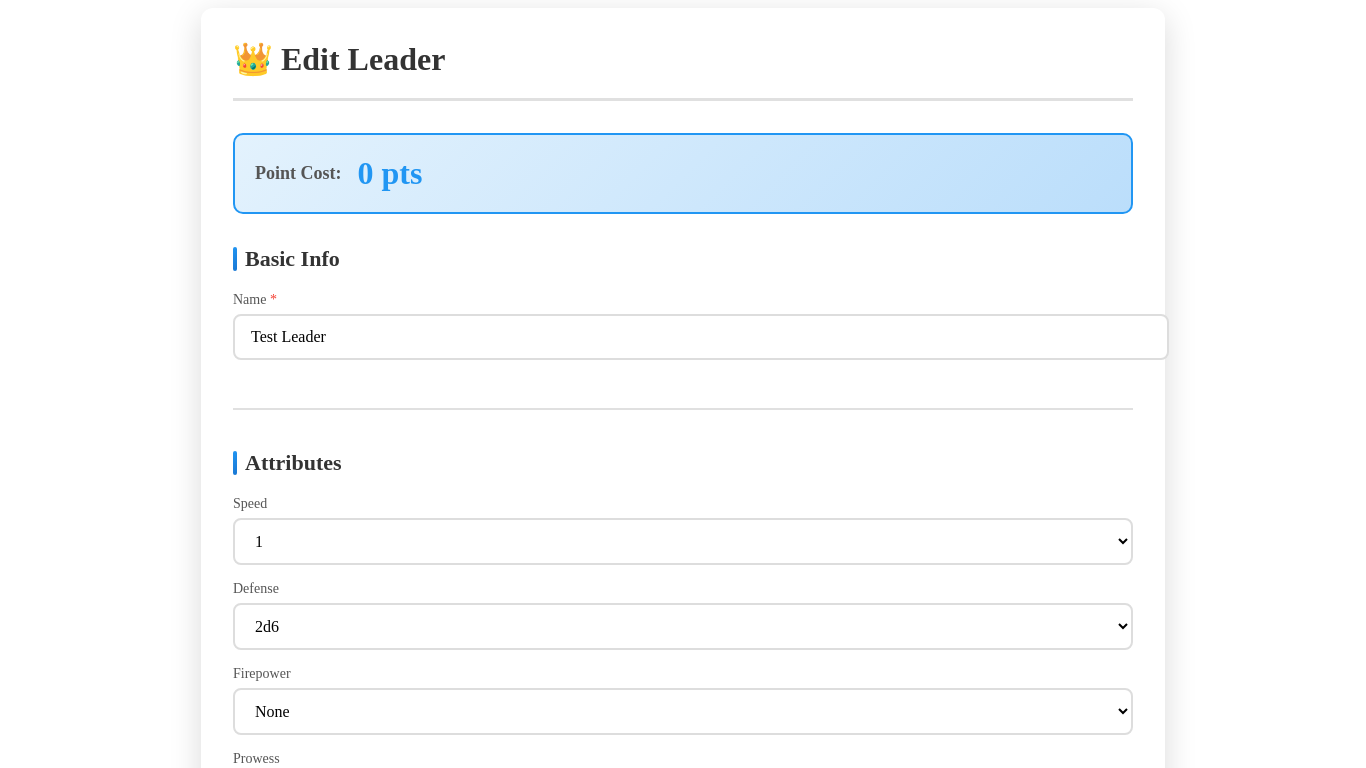
WeirdoEditor › should display validation errors
Step 1. Select "2" in the dropdown labelled "Speed" → (683, 542), box [233,518,1133,565]
(page scrolled)
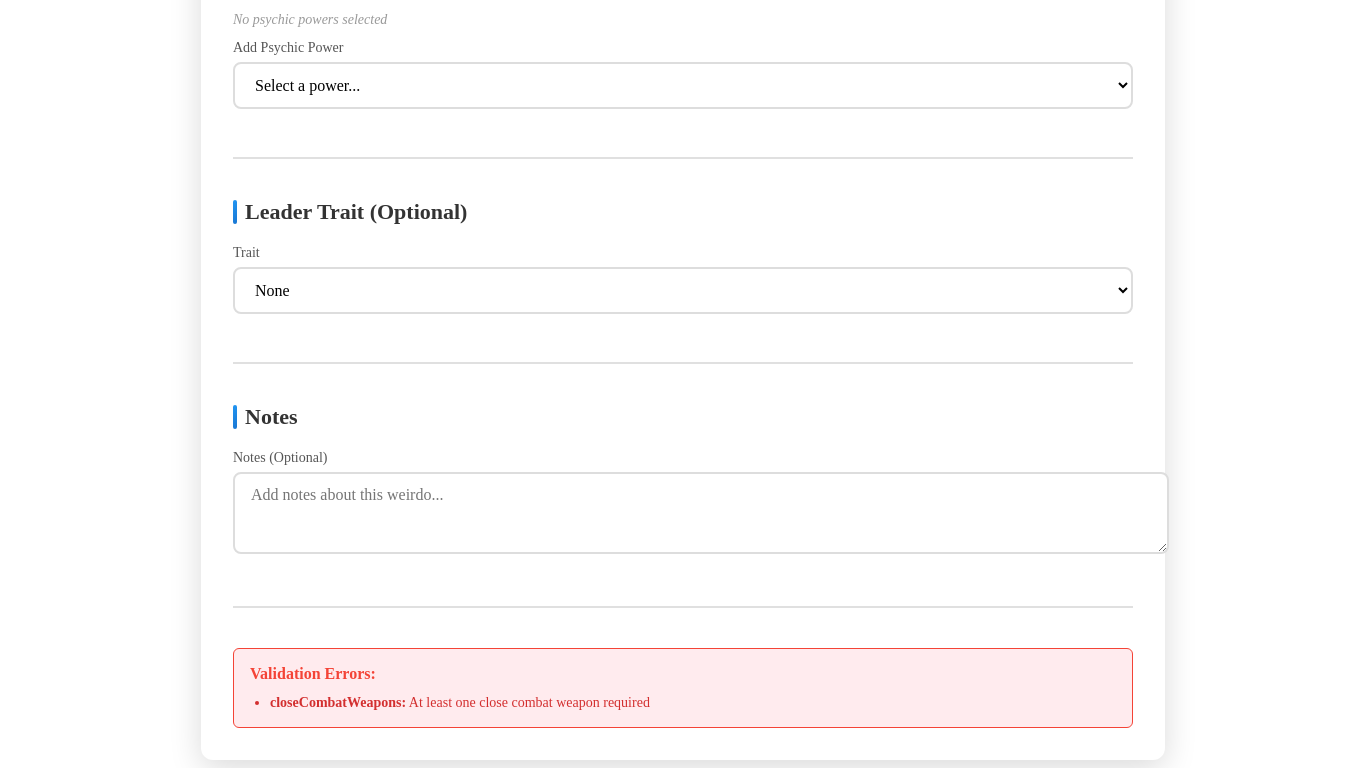
Expected: the list item "At least one close combat weapon required" is shown, [409,695,650,710]
